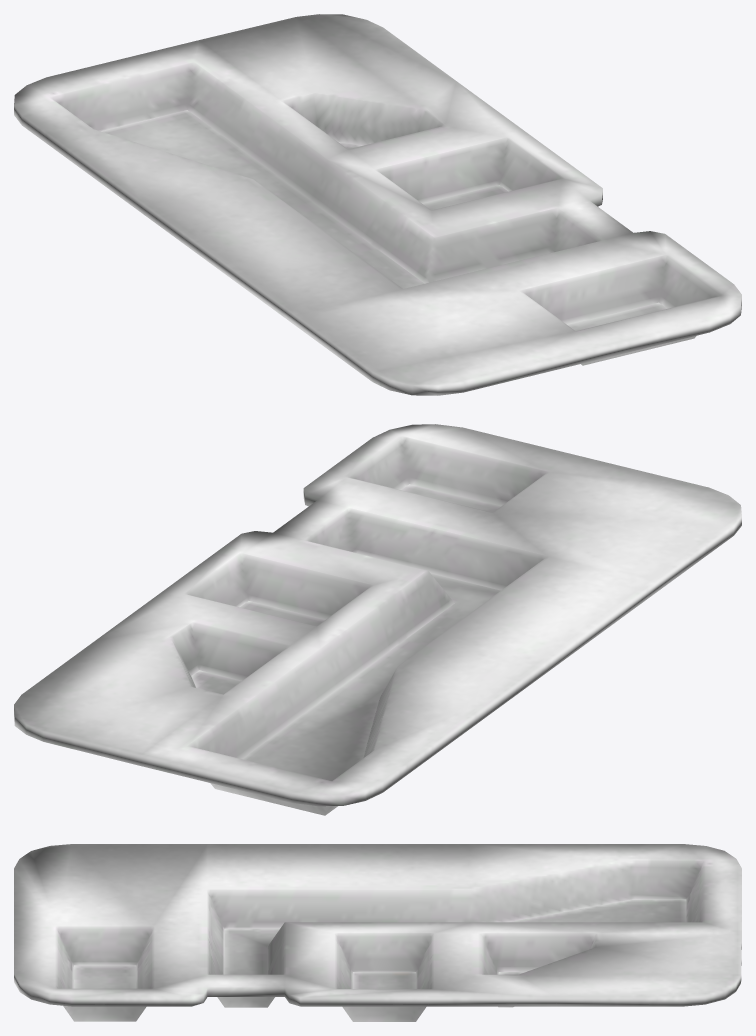
File: LunchTray01.FBX
The picture shows the model from 3 angles, top to bottom: view 1: azimuth 30°, elevation 25°; view 2: azimuth 150°, elevation 25°; view 3: azimuth 270°, elevation 25°; orthographic projection. The views are drawn at different scales.
Visible parts, largest first — view 1: LunchTray01; view 2: LunchTray01; view 3: LunchTray01.
Part boxes in pixels (box(x1,y1,x2,y2)): LunchTray01: box(14, 14, 741, 395); LunchTray01: box(14, 424, 741, 815); LunchTray01: box(14, 844, 741, 1021).
Size of the model in its own units: 0.25 by 0.0303 by 0.5.
